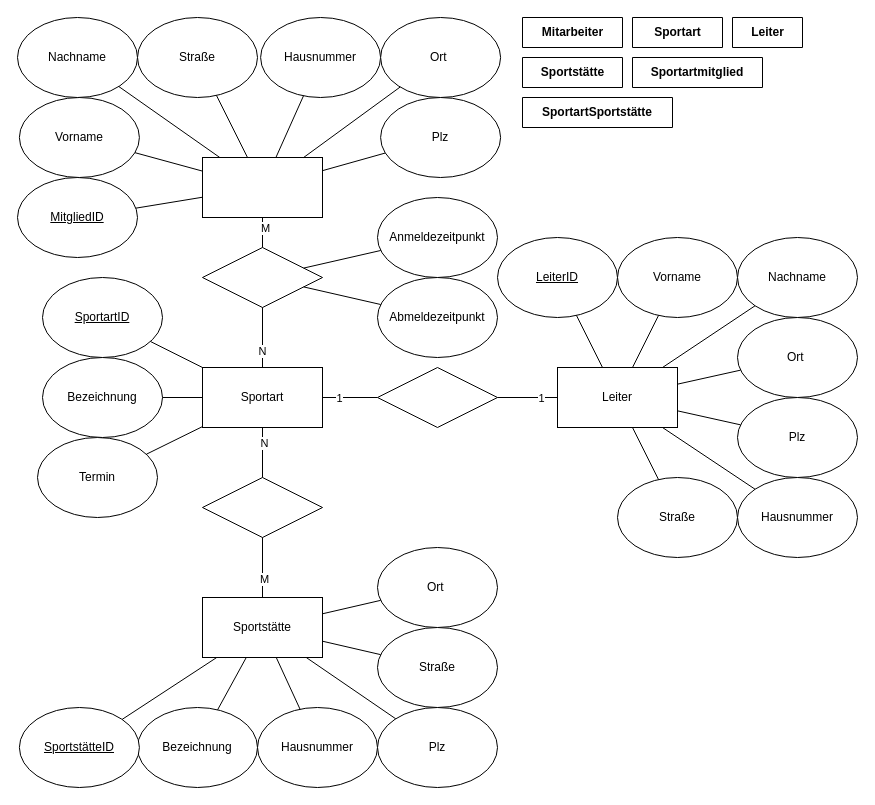
This 875x805 diagram has some shape labels left out. Each missing label, with the box of its shape:
Findet statt: (202, 476, 322, 538)
Leitet: (376, 366, 498, 428)
Mitglied: (202, 156, 322, 218)
nimmt teil: (202, 246, 322, 308)
